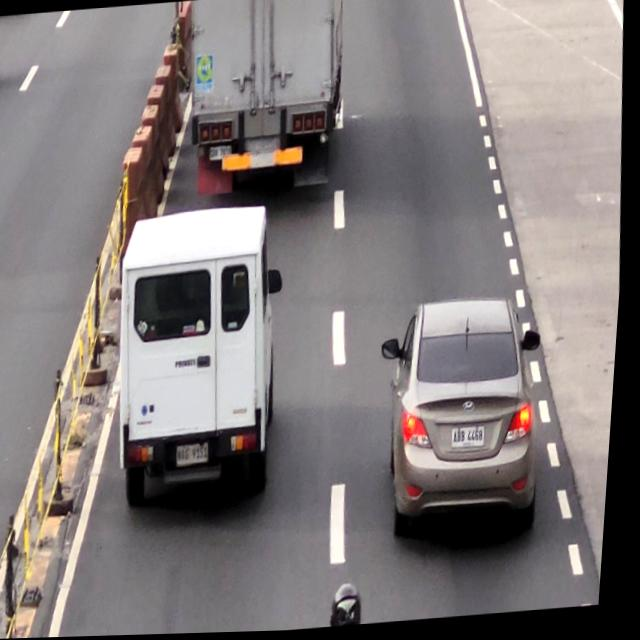Car: (110, 209, 293, 512), (385, 299, 556, 540)
License-Plate: (455, 426, 494, 453), (181, 444, 217, 470), (211, 146, 234, 162)
Truck: (180, 0, 356, 204)
